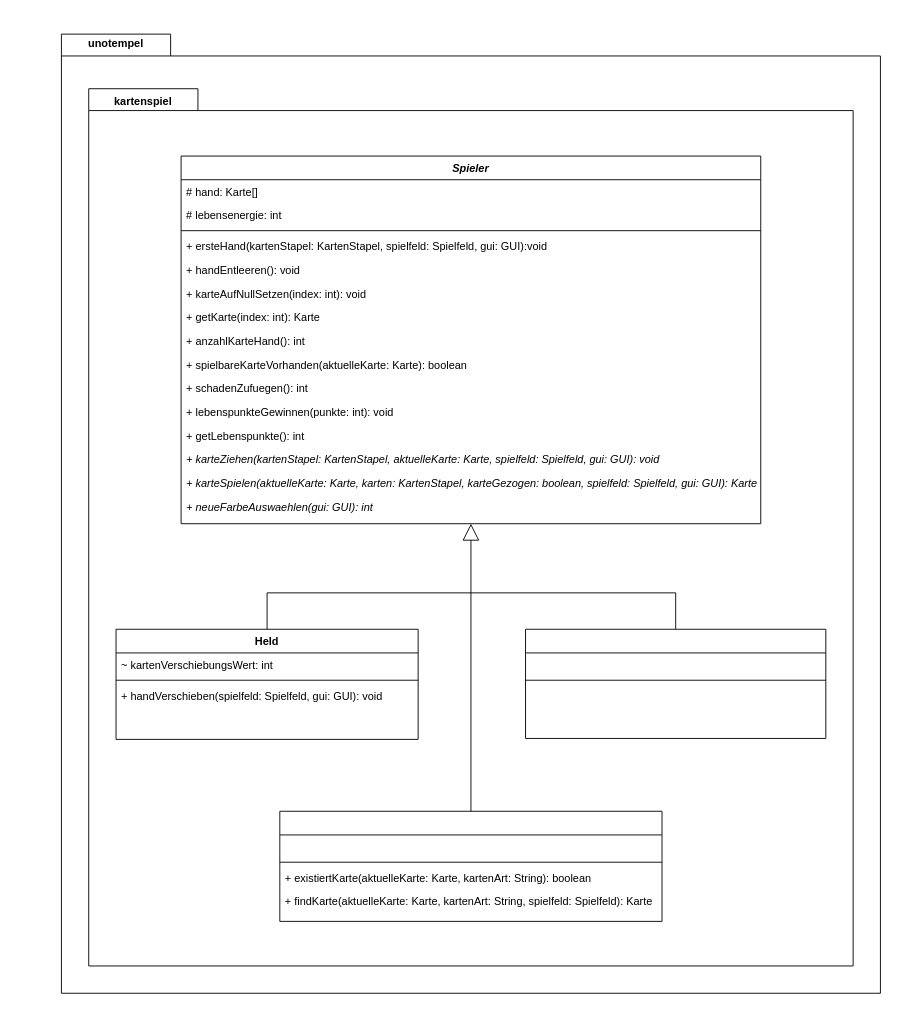
Some shapes in this 914 by 1017 pixel diagram are drawn without their labels. The shapes that lost their labels are listed below. From the top down, each one's box as (x1, y1, x2, y2) in pixels, then its label:
(525, 628, 826, 738): KIZufall
(279, 810, 662, 921): KISchlau
